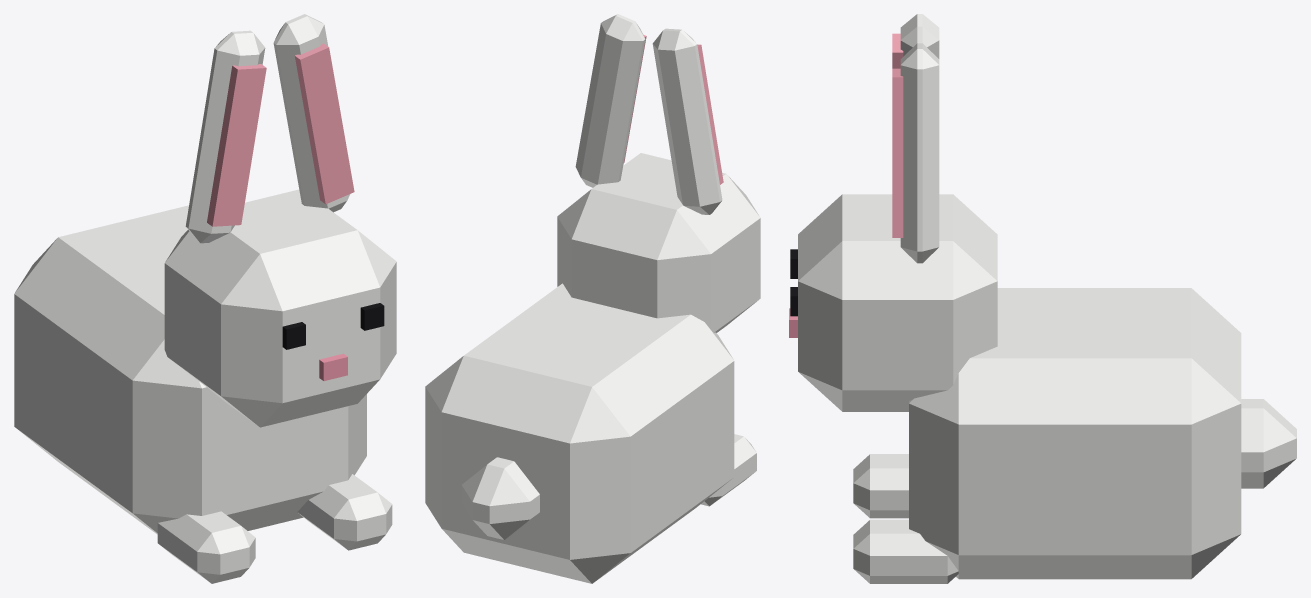
The model's file is EasterBunny.fbx.
The picture shows the model from 3 angles, left to right: view 1: azimuth 30°, elevation 25°; view 2: azimuth 150°, elevation 25°; view 3: azimuth 270°, elevation 25°; orthographic projection. The views are drawn at different scales.
Visible parts, largest first — view 1: EasterBunny; view 2: EasterBunny; view 3: EasterBunny.
Boxes of the visible parts, x1,y1,x2,y2 form: EasterBunny: (14,14,396,583); EasterBunny: (425,14,760,583); EasterBunny: (789,14,1296,583).
Bounding box in the file's own units: 2.4 × 5.1 × 4.58.
Materials: 1 (1 with a texture image).
